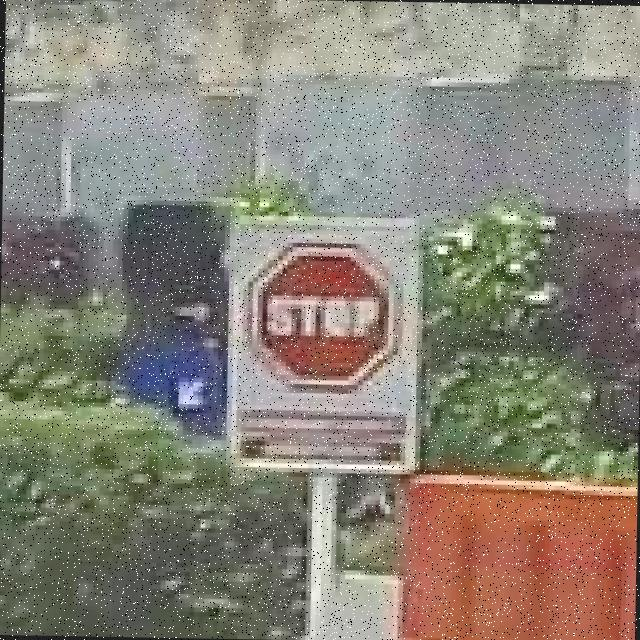Stop: (251, 236, 404, 394)
